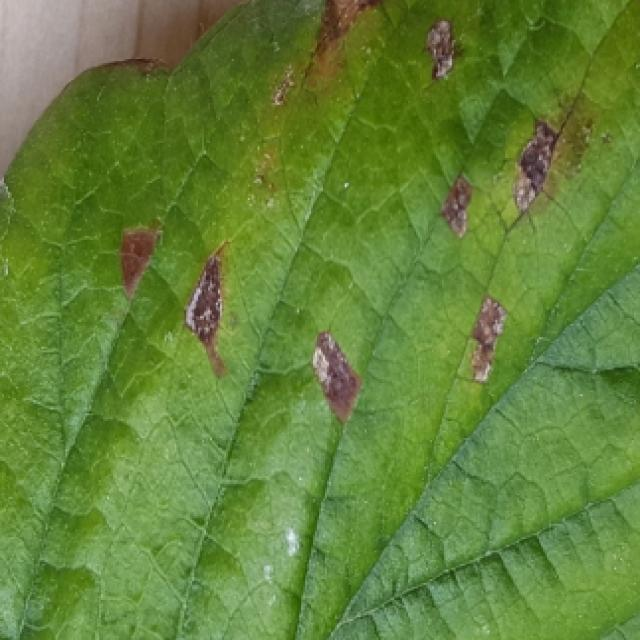Angular Leafspot: (0, 0, 620, 428)
